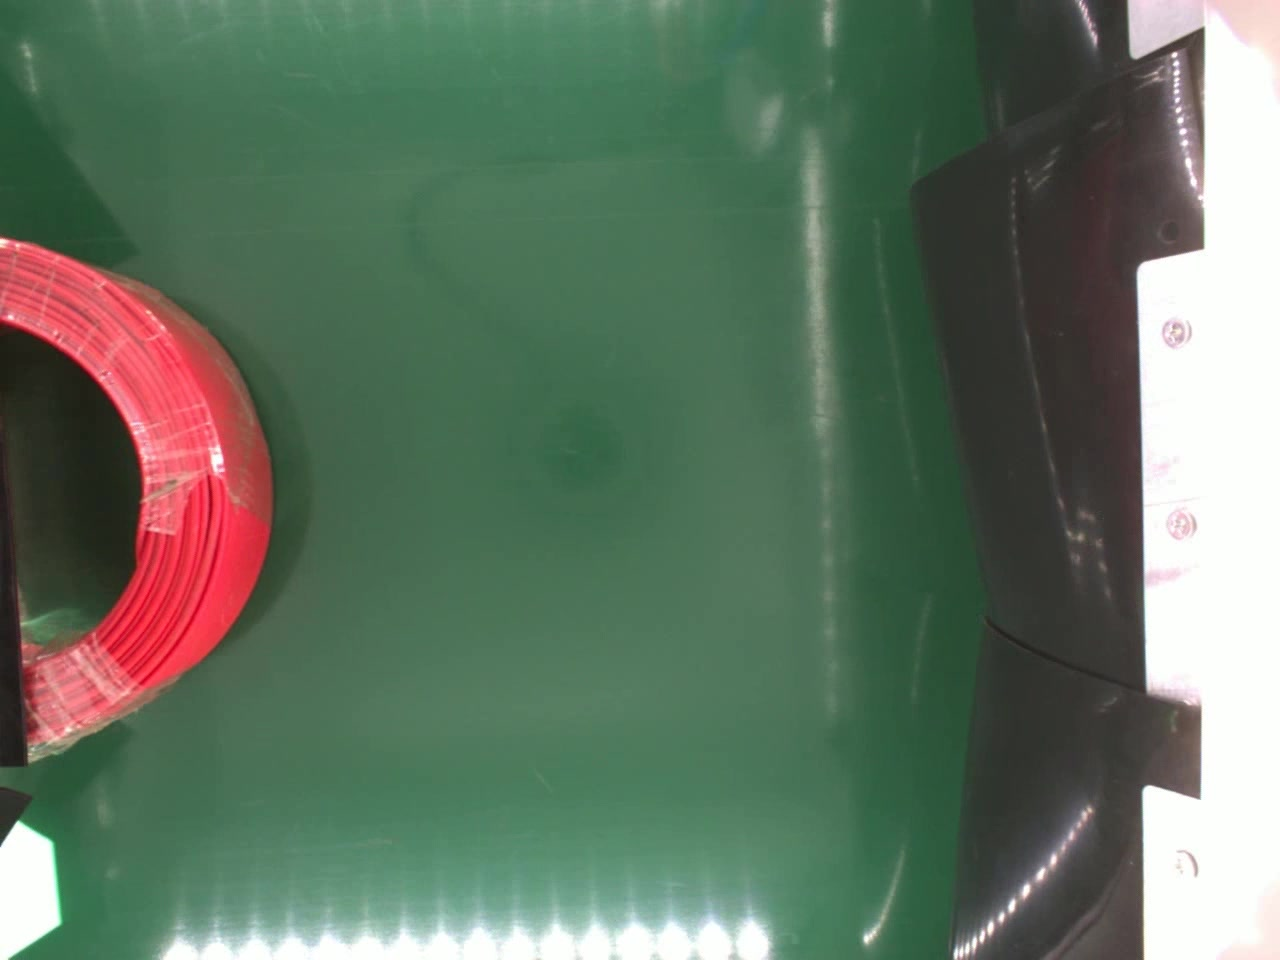red: (0, 231, 278, 755)
